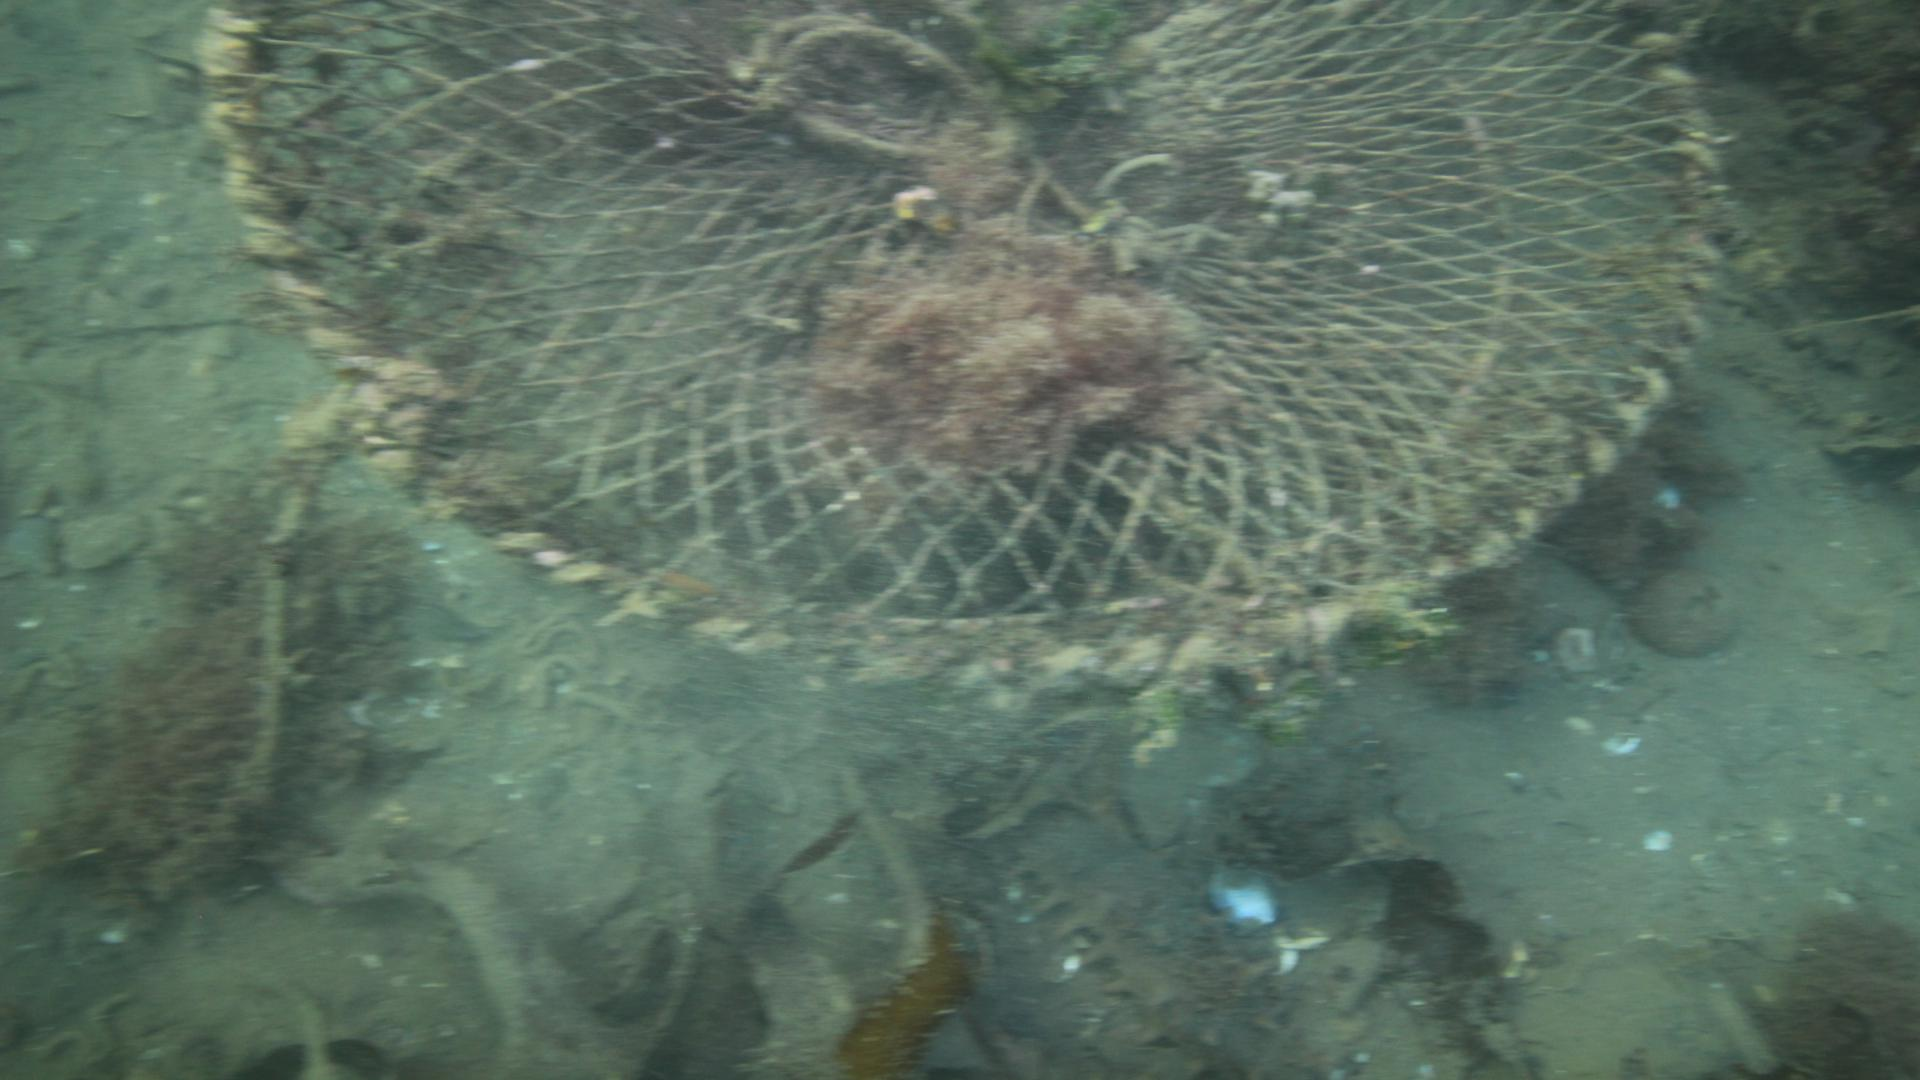circular fish trap: (191, 0, 1725, 688)
